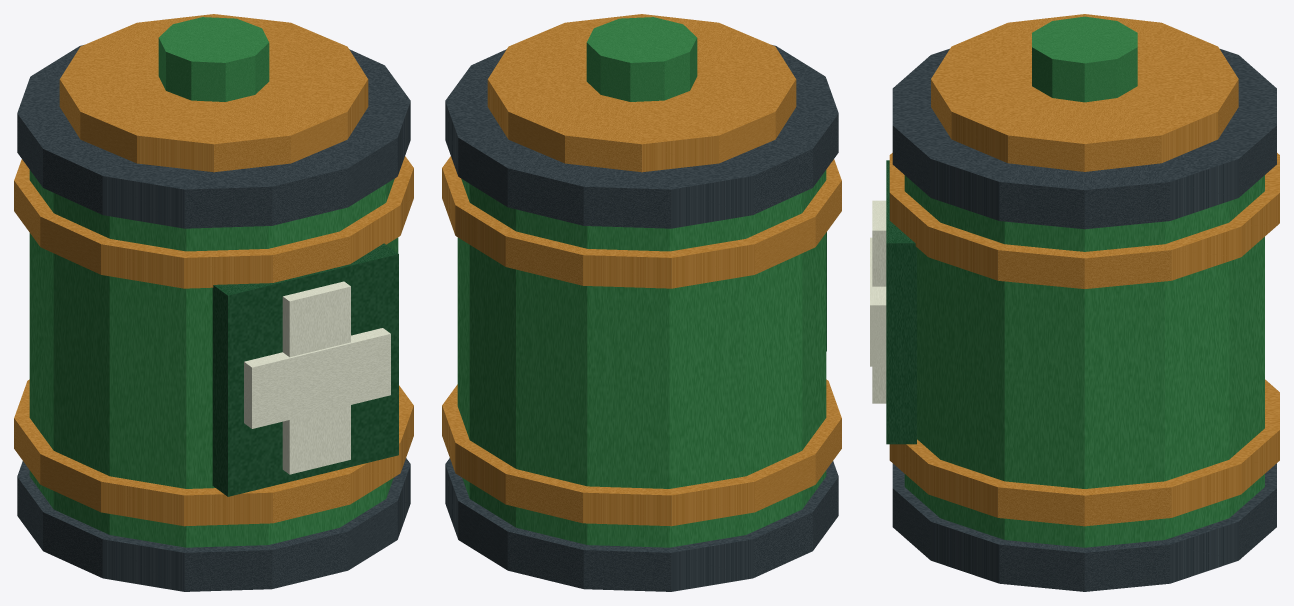
File: reparo_vida.obj
3 views of the same model, side by side, from view 1: azimuth 30°, elevation 25°; view 2: azimuth 150°, elevation 25°; view 3: azimuth 270°, elevation 25° (orthographic).
Visible parts, largest first — view 1: reparo_vida; view 2: reparo_vida; view 3: reparo_vida.
Part boxes in pixels (left/top/right/bottom): reparo_vida: left=14, top=14, right=413, bottom=591; reparo_vida: left=442, top=14, right=841, bottom=591; reparo_vida: left=870, top=14, right=1279, bottom=591.
Bounding box in the file's own units: 1.3 × 1.68 × 1.33.
5 materials, 5 textured.
